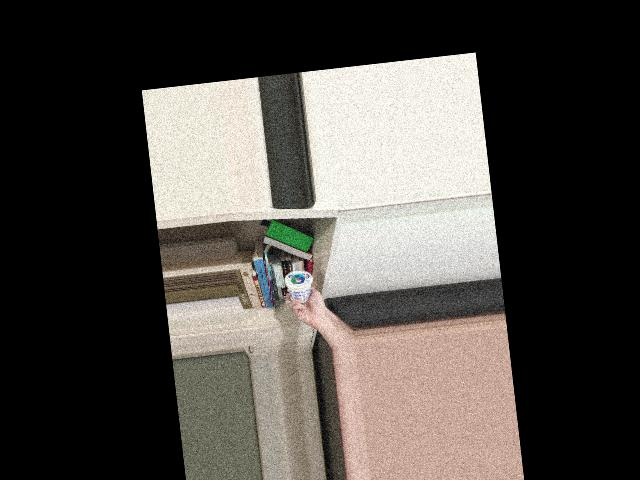cotage: (283, 268, 314, 310)
